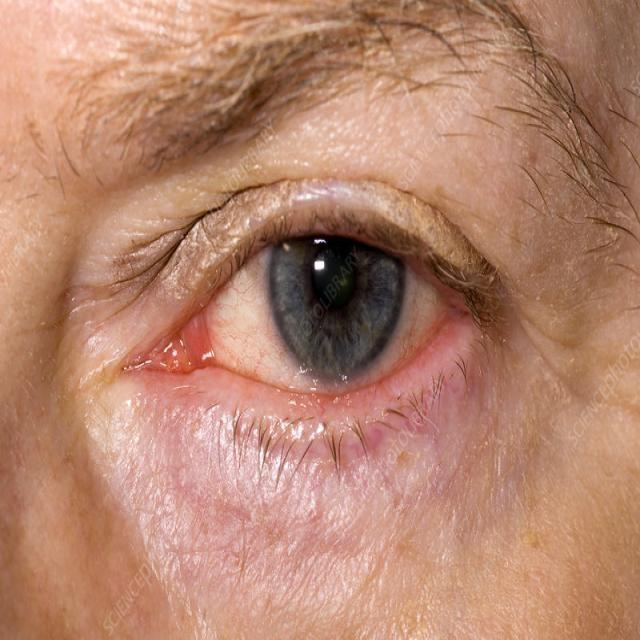Conjunctivitis: (120, 270, 489, 410)
